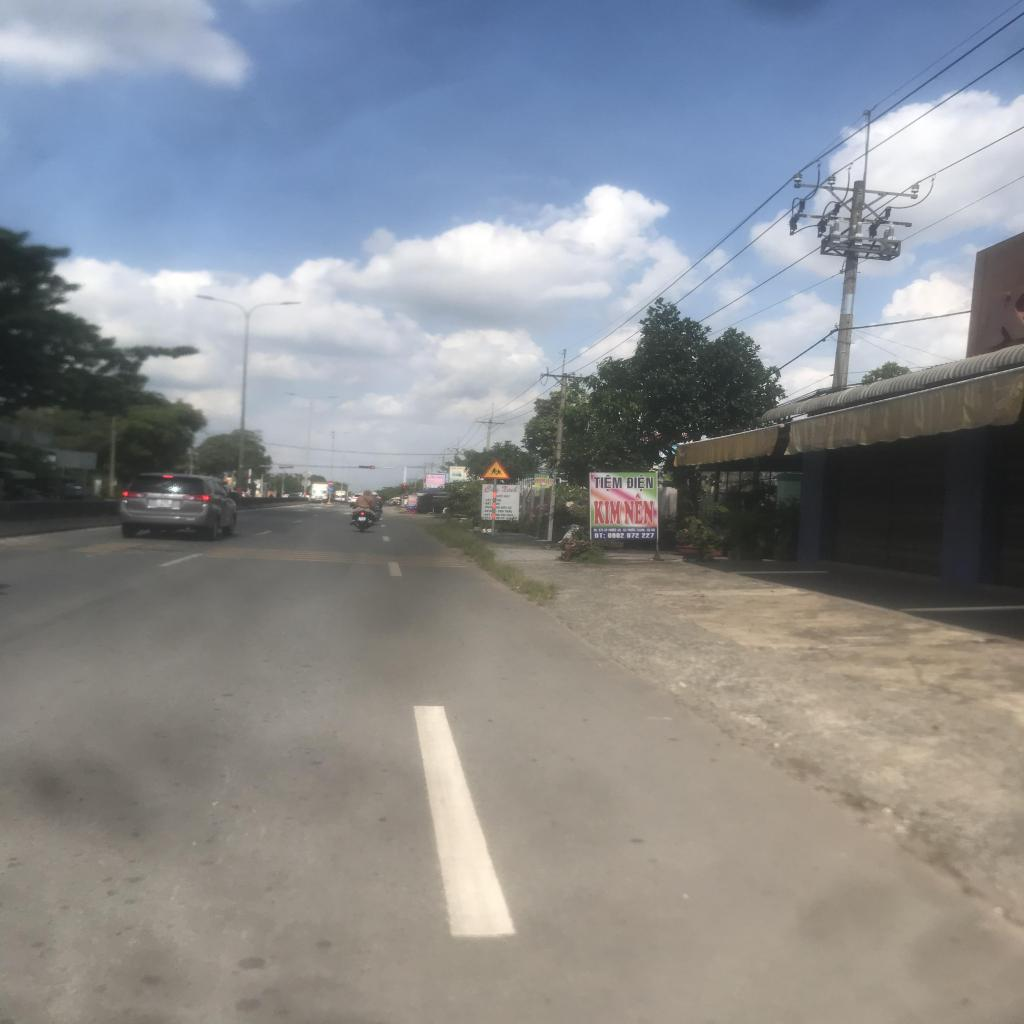cam_xe_di_nguoc_chieu: (327, 481, 334, 486)
chu_y_tre_em: (481, 458, 510, 478)
huong_phai_di_vuot_chuong_ngai_vat_phai: (327, 486, 334, 491)
